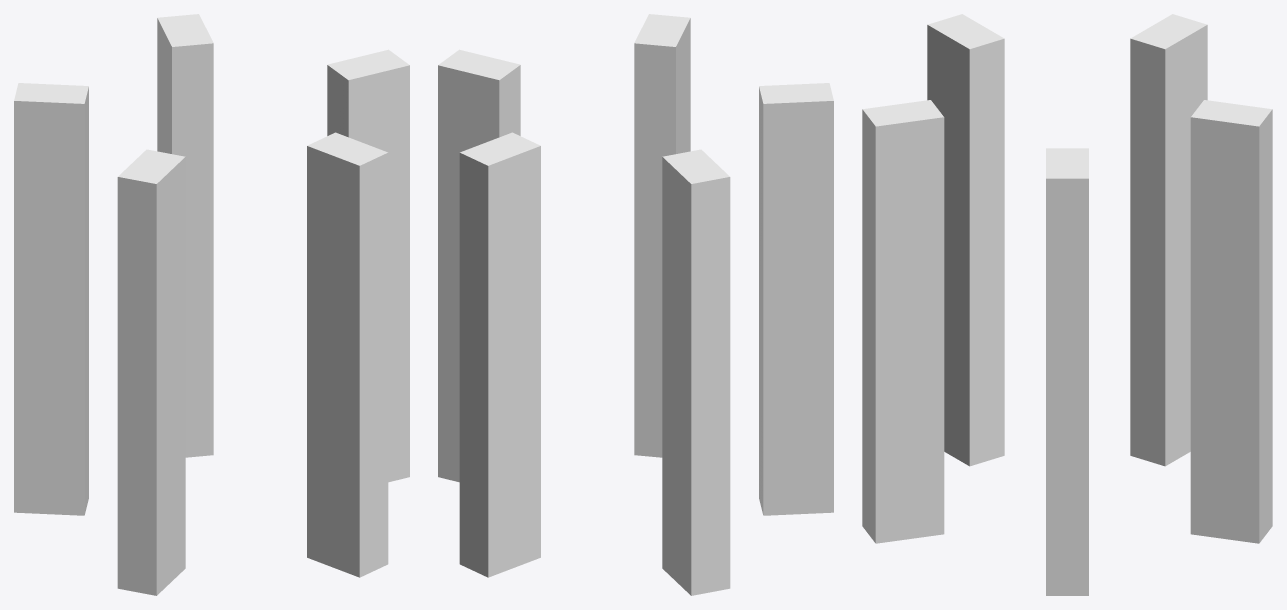
The model's file is tuft.glb.
3 renders of one model, left to right at view 1: azimuth 30°, elevation 25°; view 2: azimuth 150°, elevation 25°; view 3: azimuth 270°, elevation 25°, orthographic.
Visible parts, largest first — view 1: Tuft; view 2: Tuft; view 3: Tuft.
Boxes of the visible parts, box(x1,y1,x2,y2) form: Tuft: box(14, 14, 409, 595); Tuft: box(438, 14, 833, 595); Tuft: box(862, 14, 1272, 595).
Bounding box in the file's own units: 0.2711 × 0.32 × 0.2851.
1 material, 1 textured.
